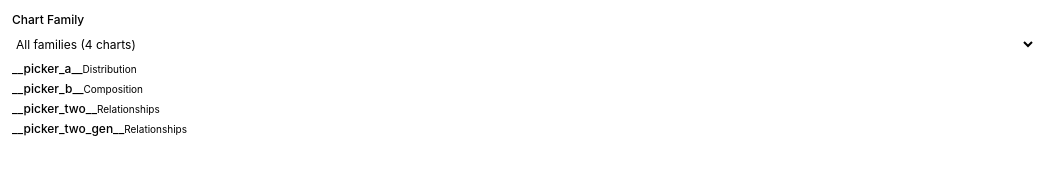
ChartPicker › filters the chart list when a family is selected
This screenshot has width=1048, height=172.
Select "Distribution (1)" in the dropdown at (524, 44), box [12, 36, 1036, 53]
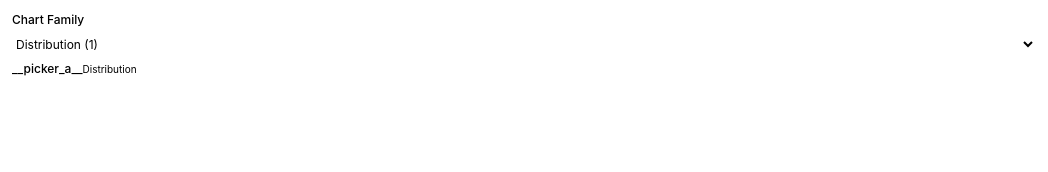
Expected: the text "__picker_a__" is shown, [12, 61, 82, 76]
Expected: the button "__picker_b__" is gone
